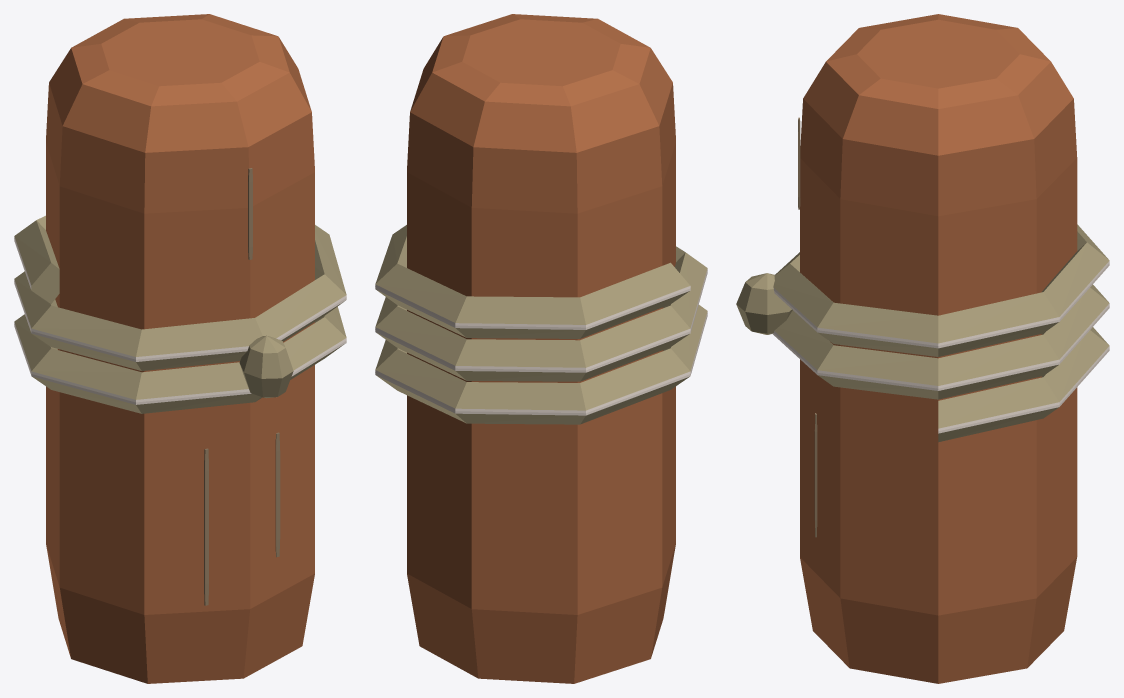
Rendered from careerStake.glb.
The picture shows the model from 3 angles, left to right: view 1: azimuth 30°, elevation 25°; view 2: azimuth 150°, elevation 25°; view 3: azimuth 270°, elevation 25°; orthographic projection.
Parts seen in each view (by area): view 1: careerStake; view 2: careerStake; view 3: careerStake.
Boxes of the visible parts, bbox=[...] form: careerStake: bbox=[14, 14, 346, 683]; careerStake: bbox=[375, 14, 707, 683]; careerStake: bbox=[736, 14, 1109, 683].
Size of the model in its own units: 0.21 by 0.39 by 0.229.
Materials: 1 (1 with a texture image).
